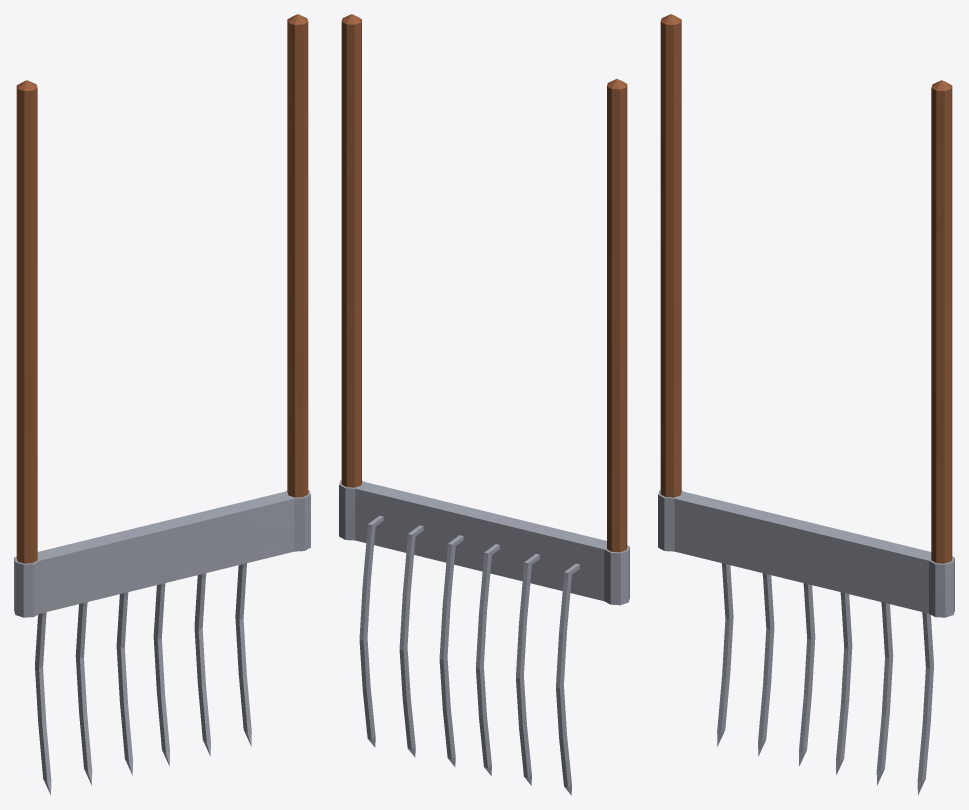
File: Grelinette.fbx
The picture shows the model from 3 angles, left to right: view 1: azimuth 30°, elevation 25°; view 2: azimuth 150°, elevation 25°; view 3: azimuth 330°, elevation 25°; orthographic projection. The views are drawn at different scales.
Visible parts, largest first — view 1: Cylinder; view 2: Cylinder; view 3: Cylinder.
Part boxes in pixels (bbox=[...]): Cylinder: bbox=[14, 14, 310, 795]; Cylinder: bbox=[339, 14, 629, 795]; Cylinder: bbox=[658, 14, 954, 795].
Size of the model in its own units: 27.9 by 66.39 by 5.26.
